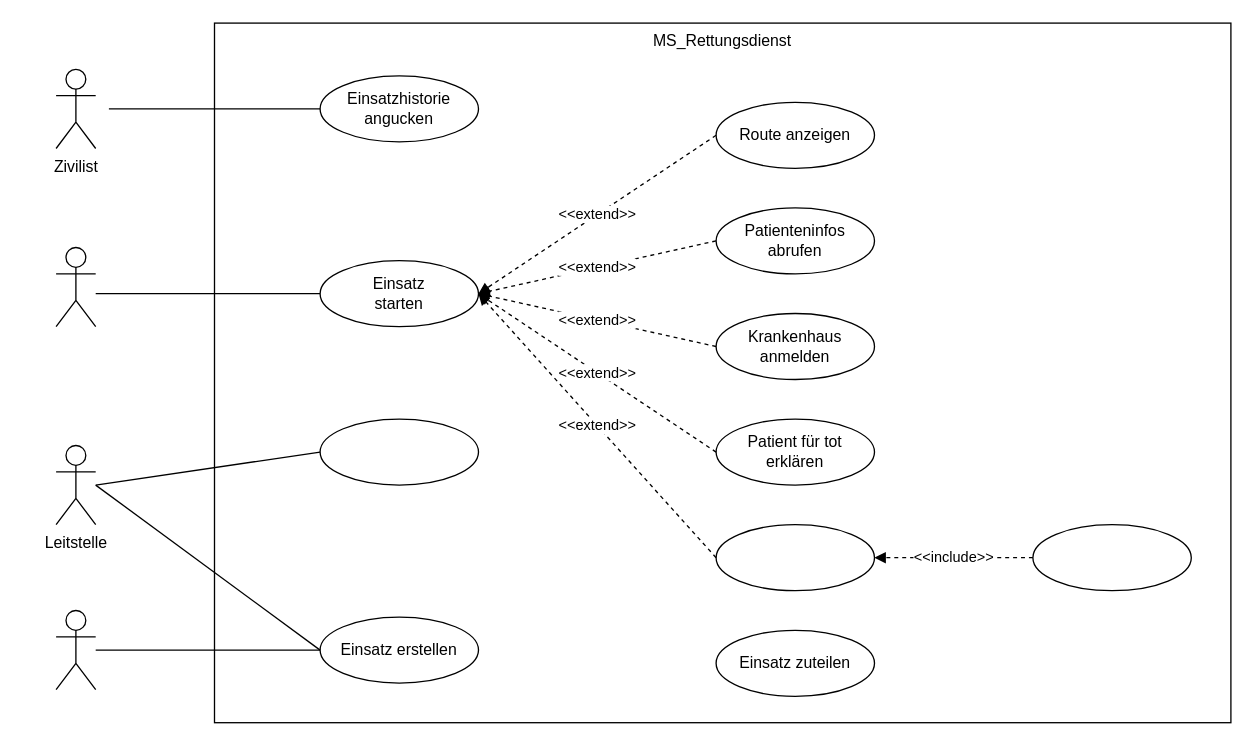
Some shapes in this 1254 by 746 pixel diagram are drawn without their labels. The centre of each missing label's shape, as x and y in pixels:
Einsatz beenden: (x=1111, y=557)
Einsatzbericht schreiben: (x=794, y=557)
Rettungsdienst: (x=75, y=286)
Status Einsatzkräfte überprüfen: (x=398, y=451)
System: (x=75, y=649)
